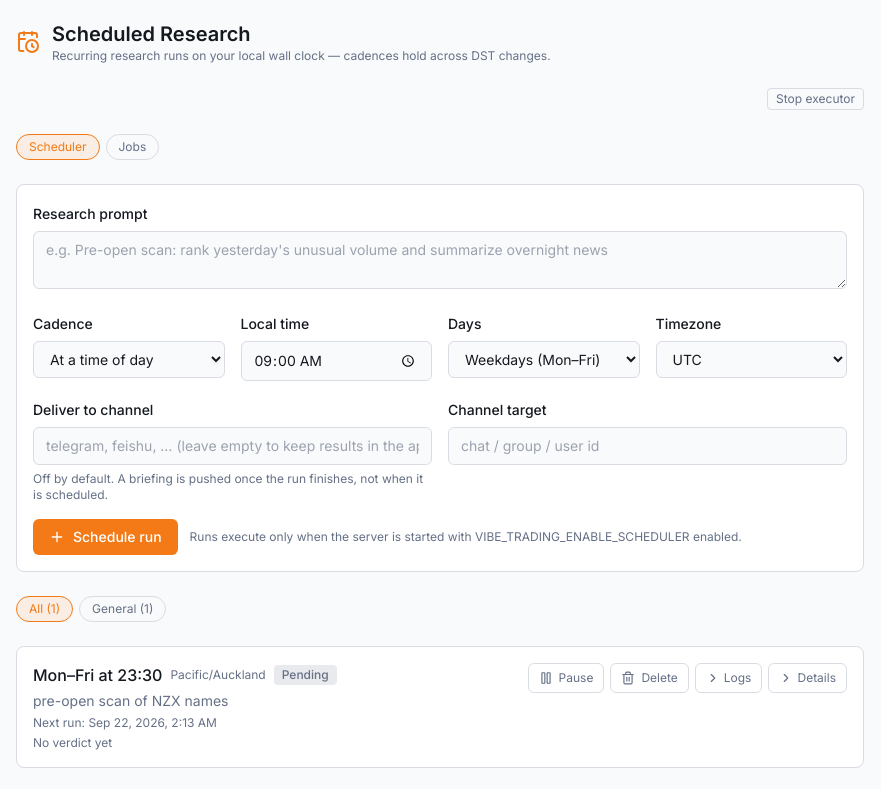
Test: job details panel › shows an unavailable message when the job type has no live preview
Click the button with aria-label "Toggle details" at (808, 678), box top-left (768, 663), bottom-right (847, 693)
(page scrolled)
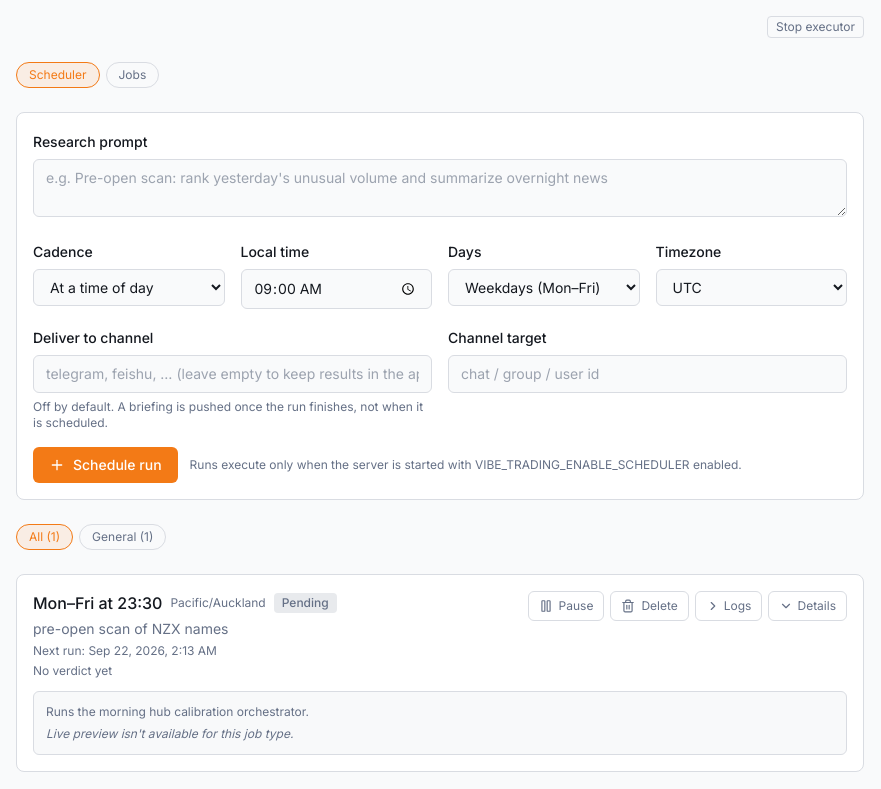
Expected: the text "Live preview isn't available for this job type." is shown, top-left (46, 726), bottom-right (293, 741)
